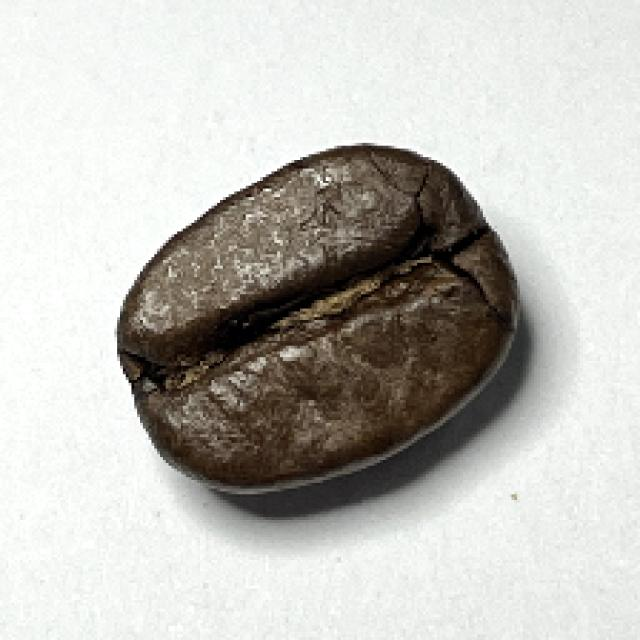bean: (108, 138, 527, 497)
